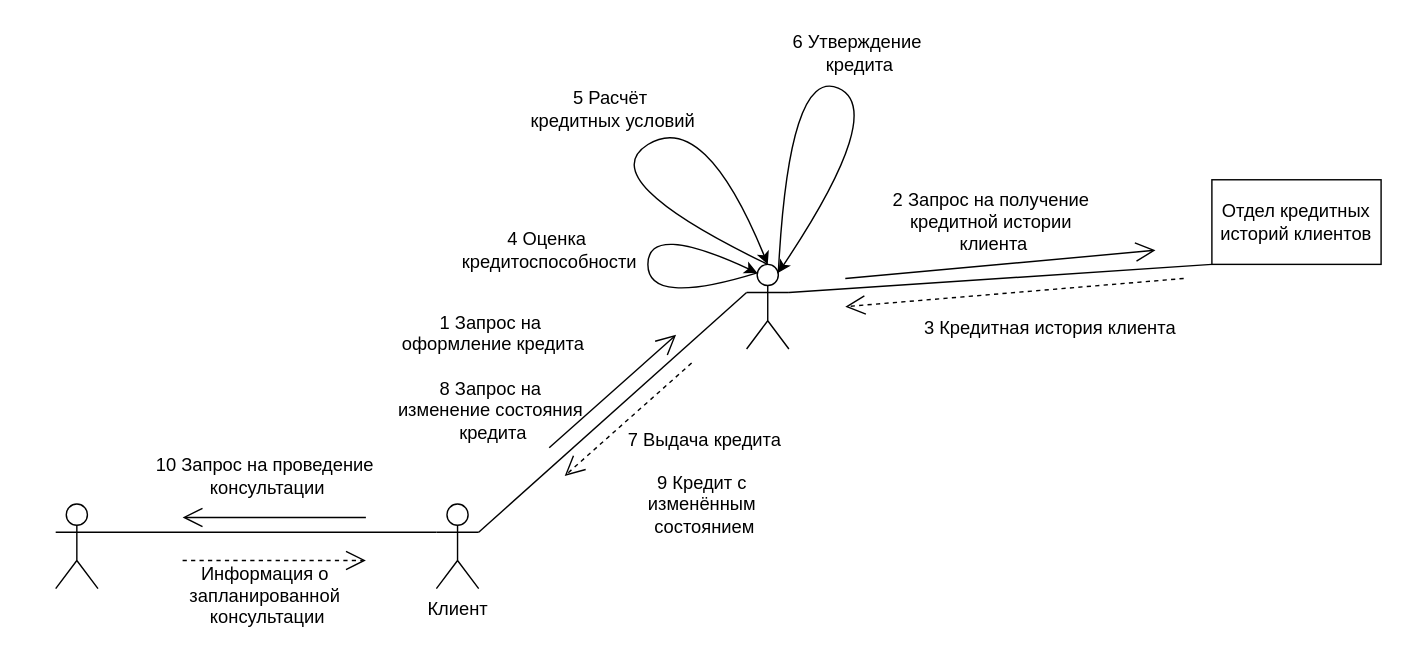
The diagram is 1406 pixels wide and 661 high, and some of its shapes have lost their labels. The centre of each missing label's shape, as x and y in pixels:
Консультант: (76,546)
Менеджер: (767,306)
